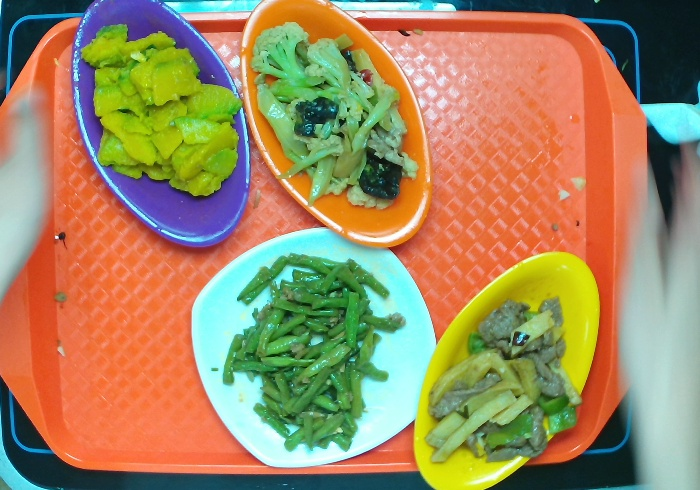RJxy-Fen_Hong_Tuo_Yuan: (65, 1, 255, 252)
RJxy-Huang_Se_Tuo_Yuan: (404, 246, 605, 490)
RJxy-Ju_Huang_Tuo_Yuan: (237, 1, 439, 254)
RJxy-Si_Fang_Die: (184, 220, 444, 469)
